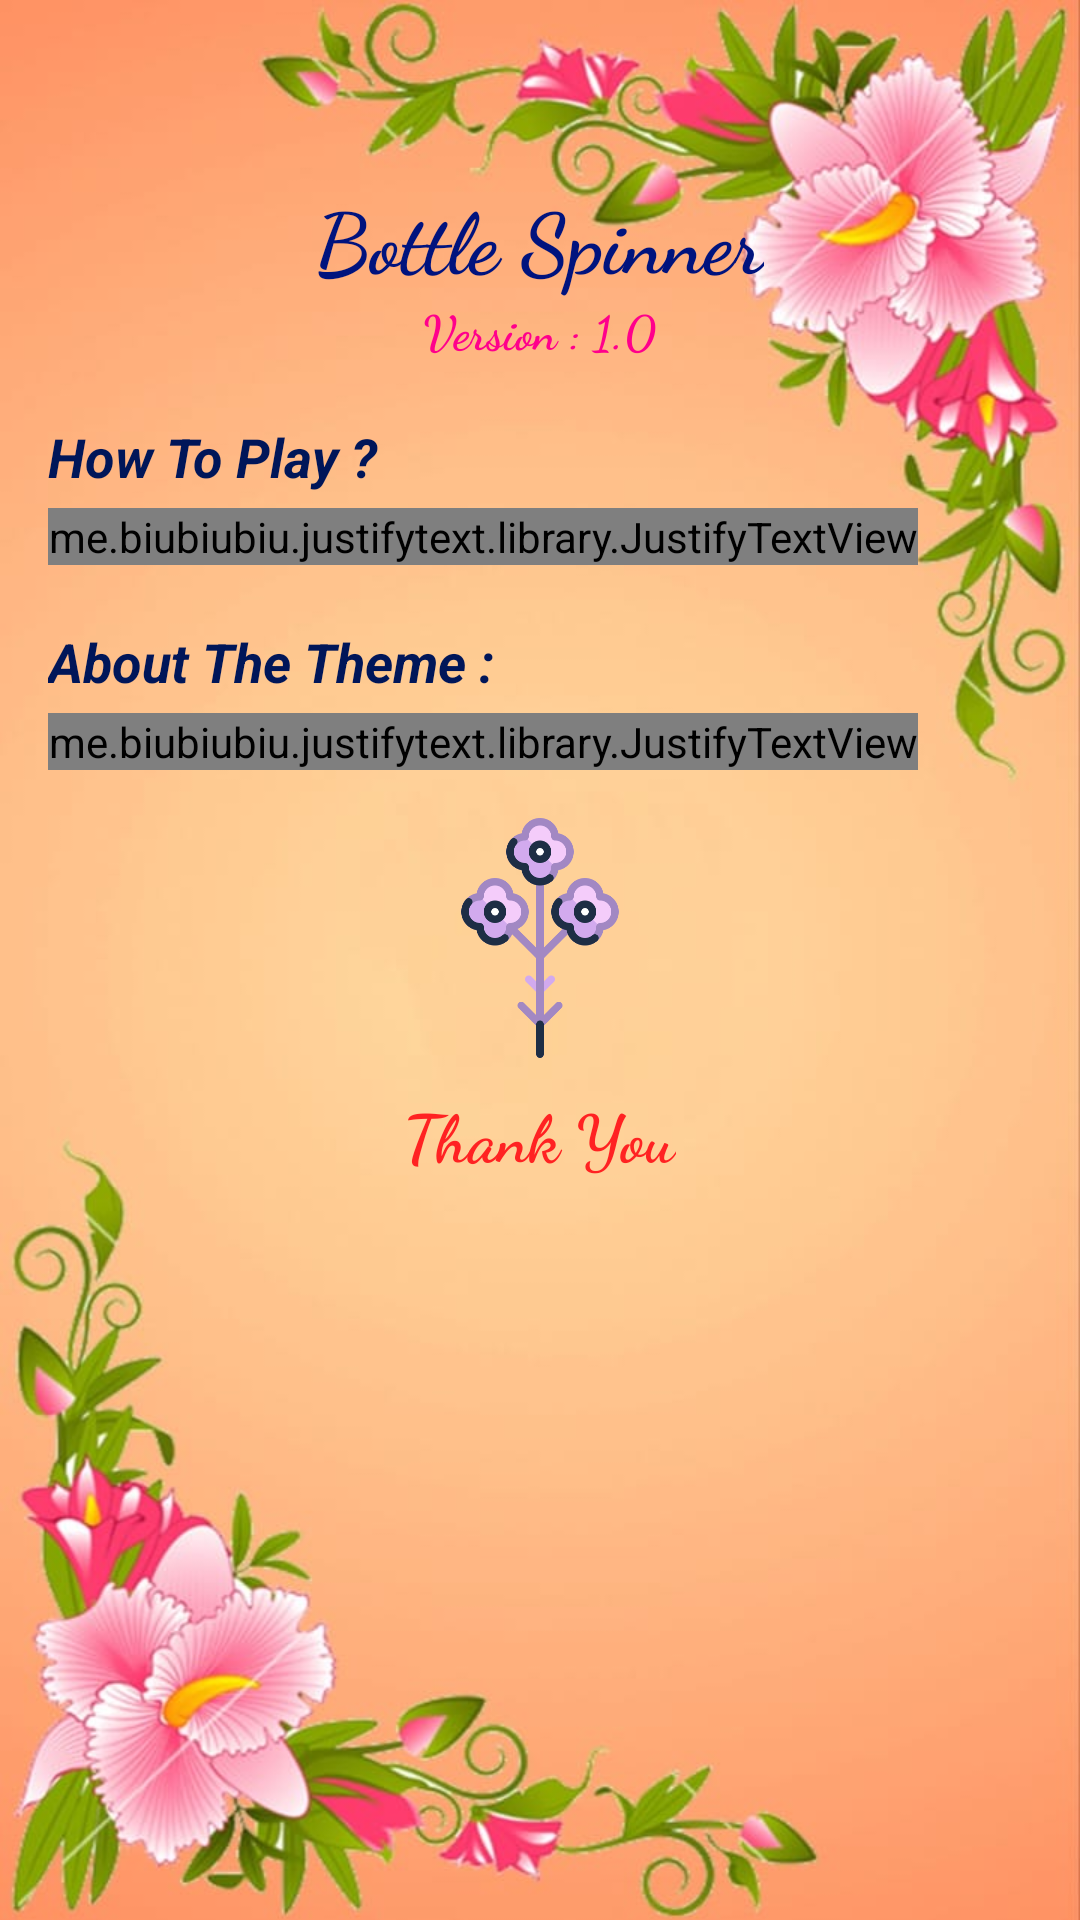

Locate icon controls on the screen. Image size 1080px x 1920px, boxes as (x1=x1, y1=y1, x2=x2, y2=y2).
flower: (x1=461, y1=818, x2=619, y2=1058)
